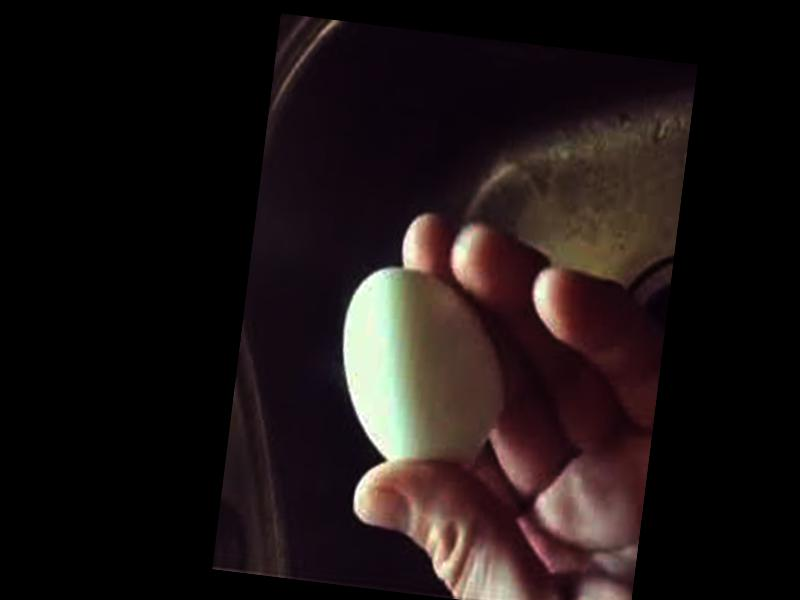Eggs: (328, 260, 515, 475)
